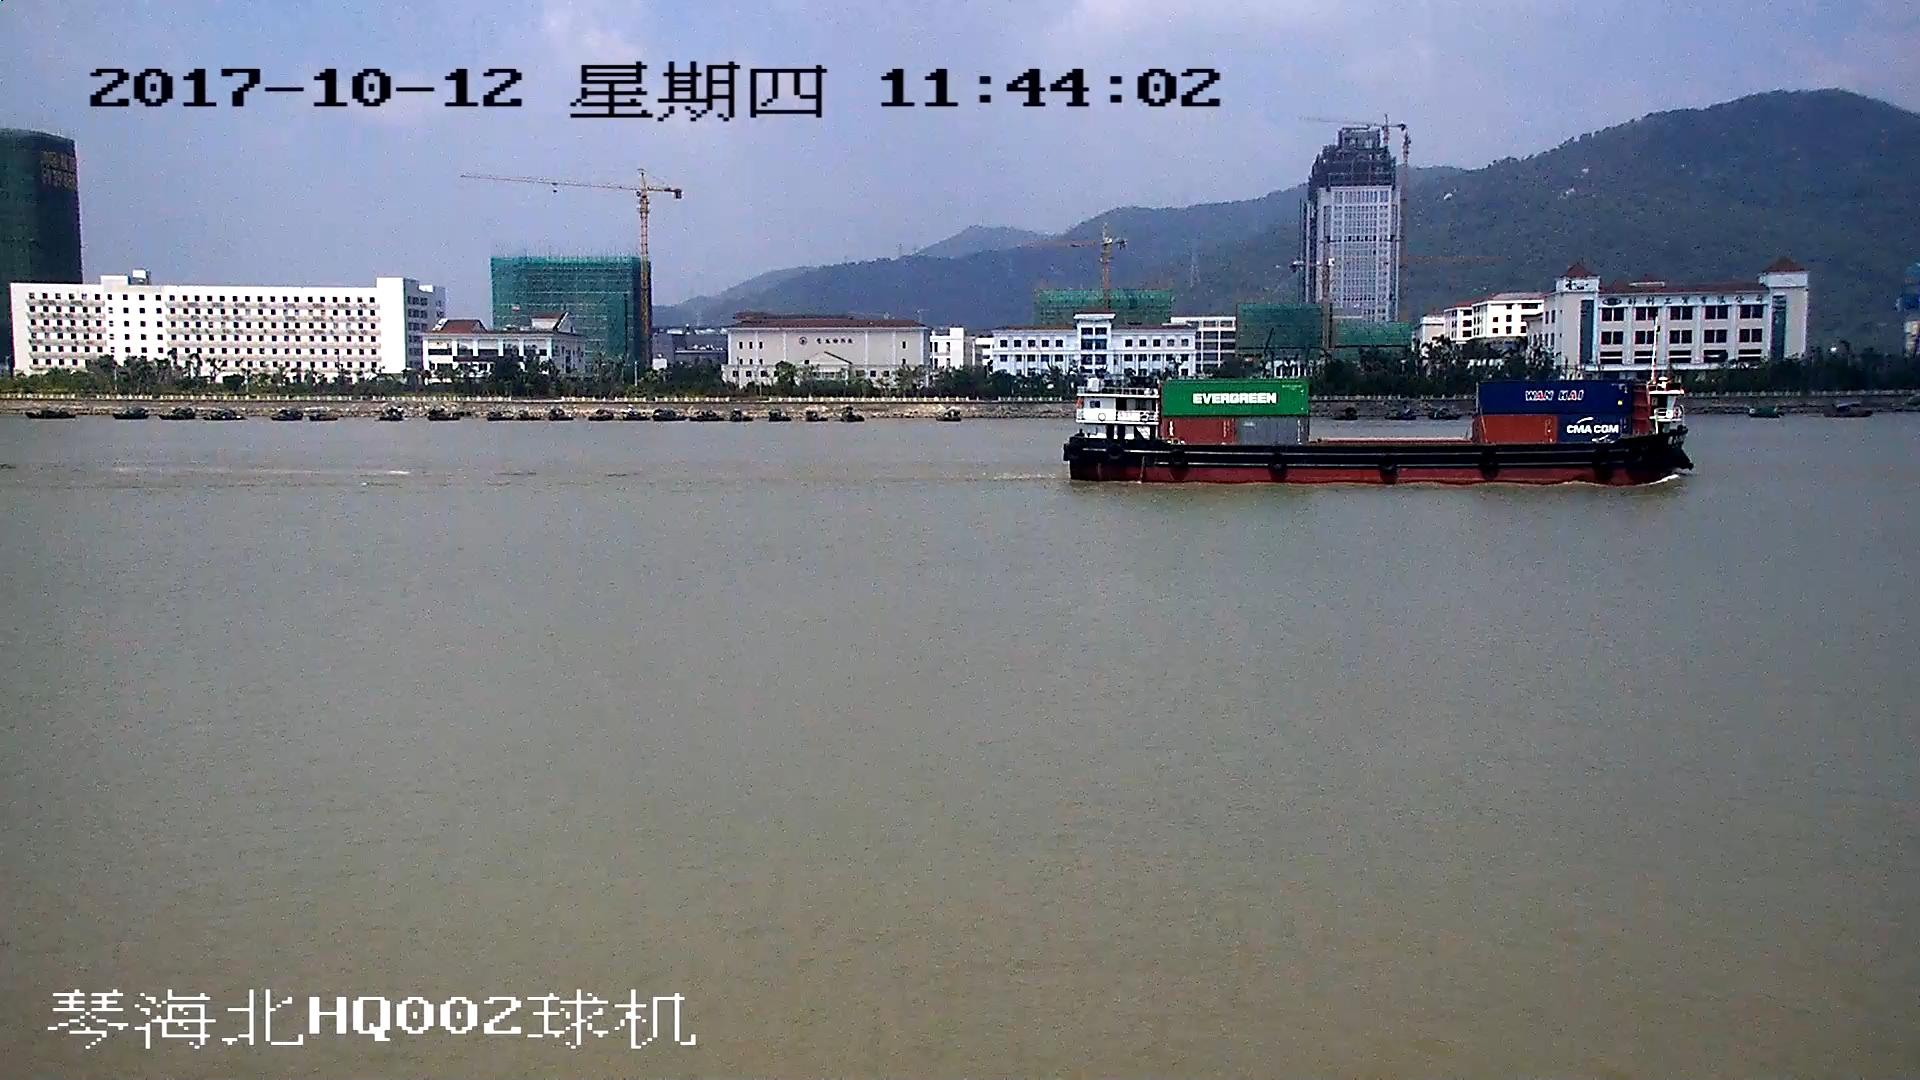container ship: (1068, 378, 1686, 486)
